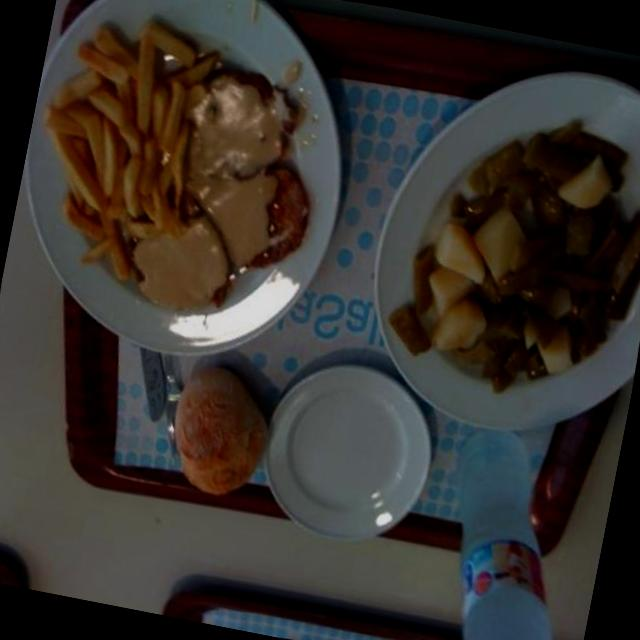French Fries: (14, 13, 226, 306)
